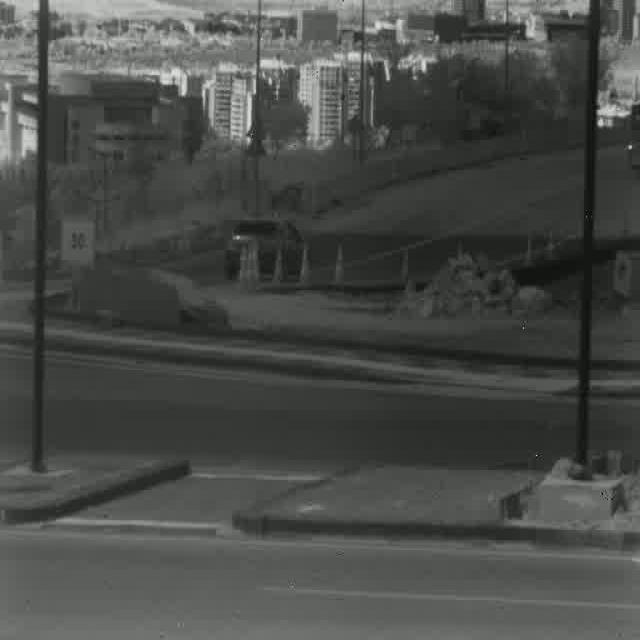Bus: (629, 105, 640, 173)
Car: (222, 218, 308, 281)
